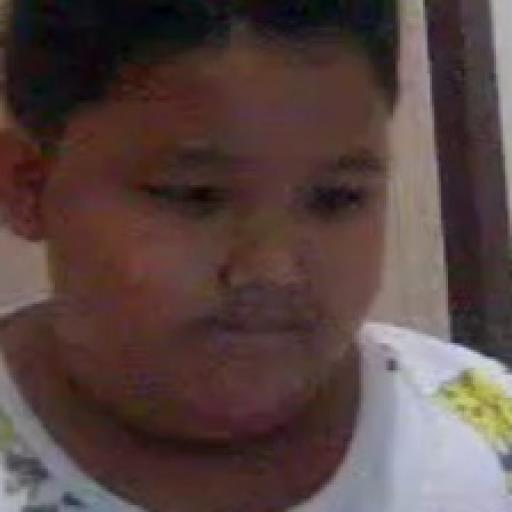Autism: (48, 6, 452, 504)
